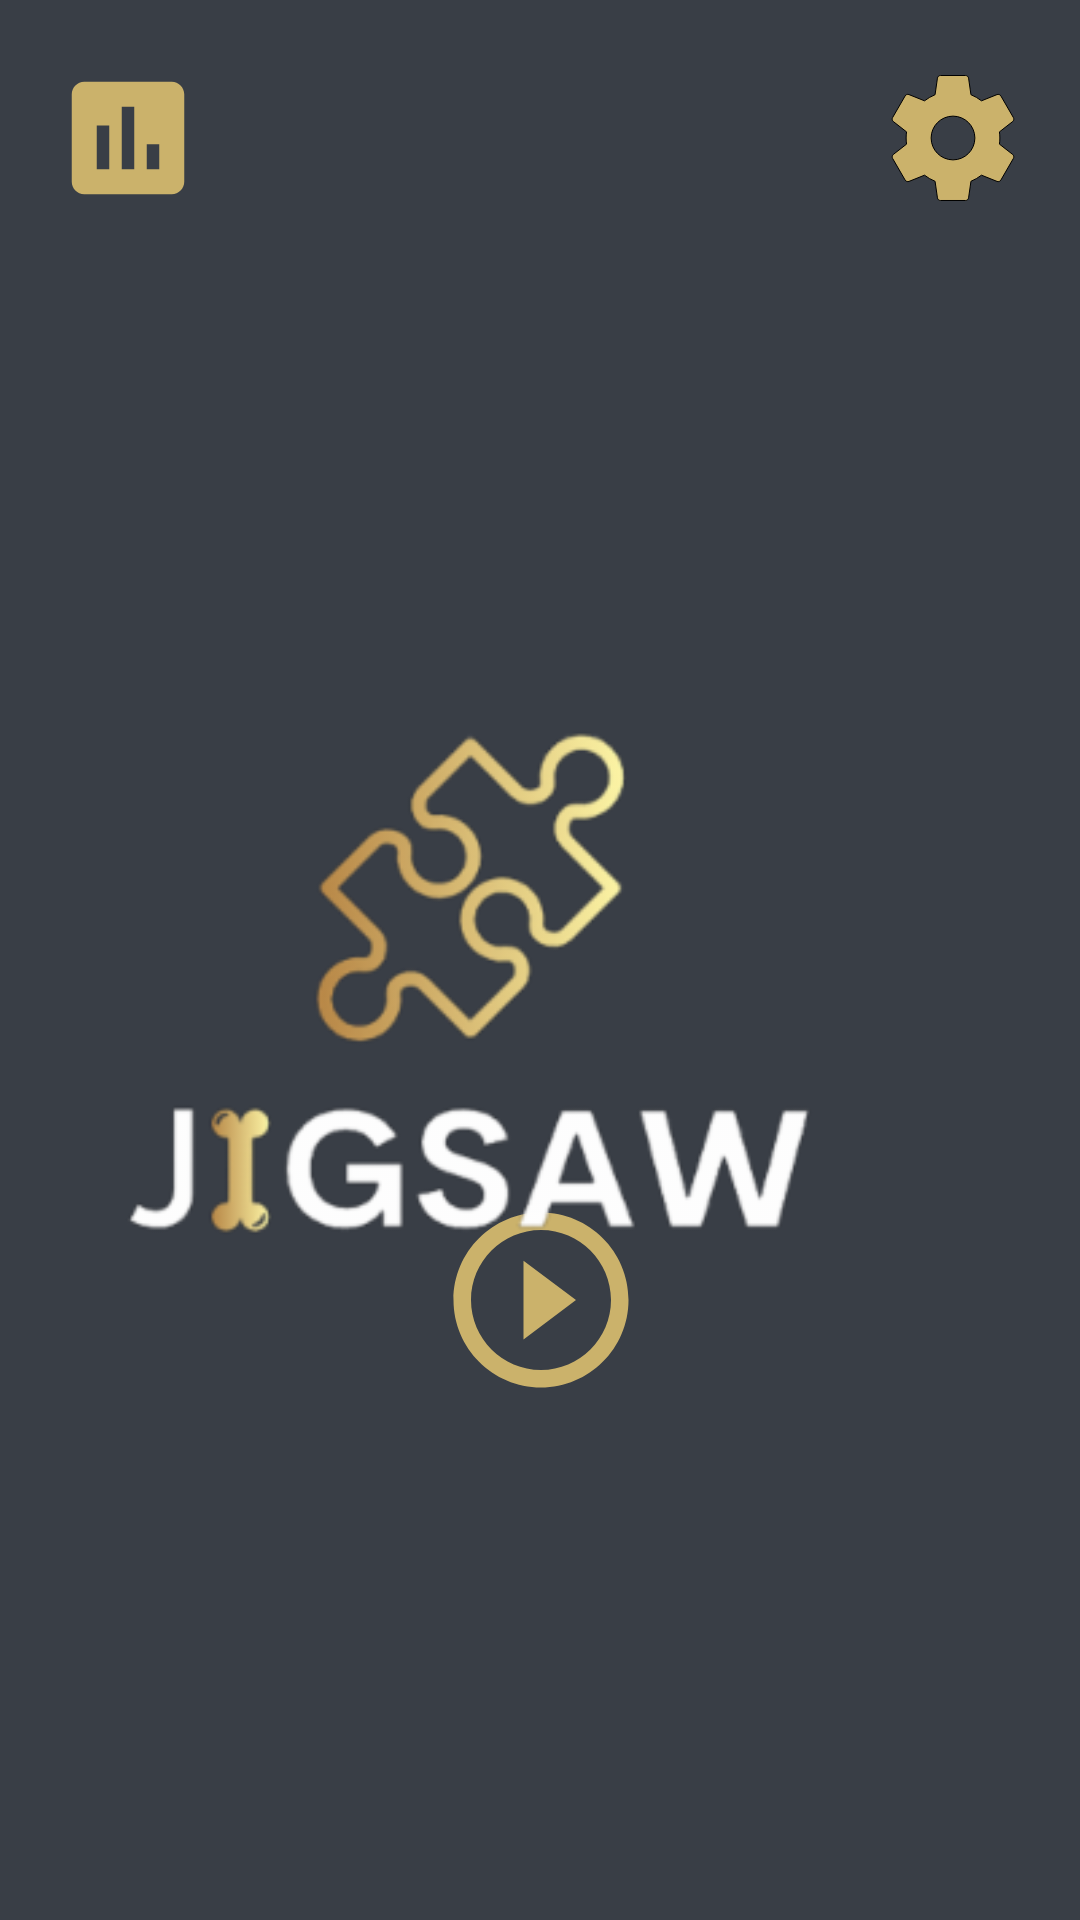

Screen size 1080x1920. Icon name, then its center in pixels as point (x, y):
game settings: point (953, 138)
game statistics: point (128, 138)
play shape: point (542, 1275)
